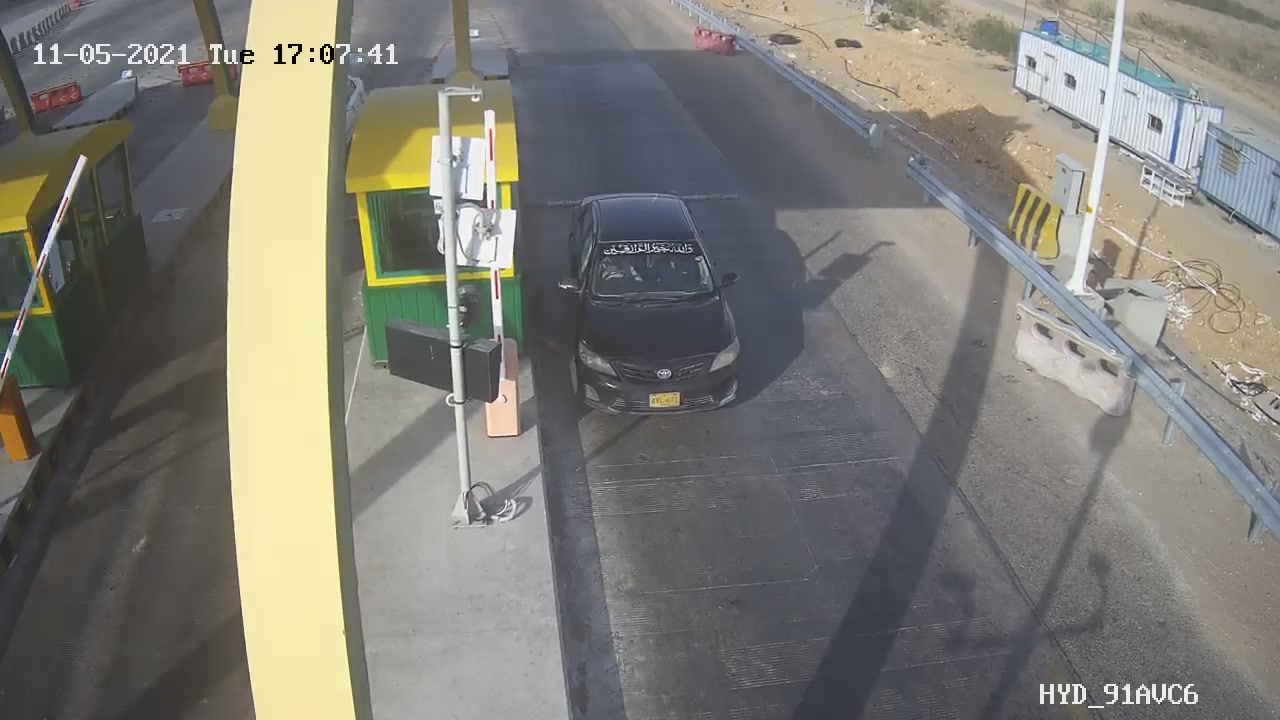F1: (535, 174, 768, 442)
